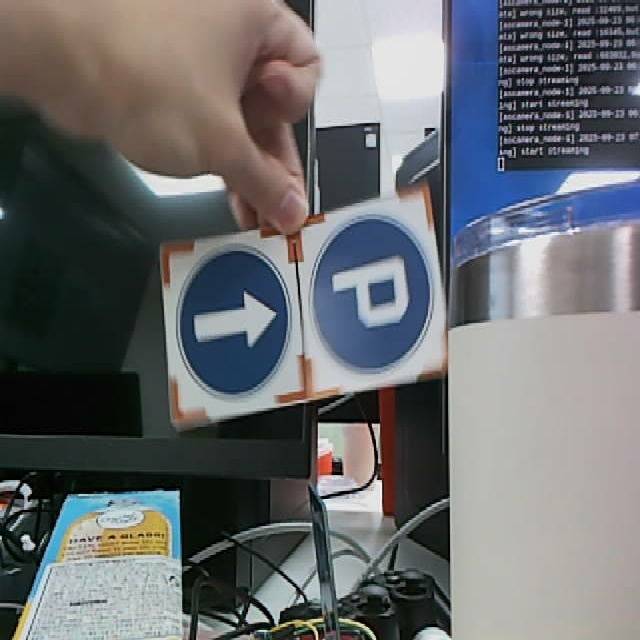parking: (294, 187, 447, 390)
straight: (158, 231, 300, 427)
